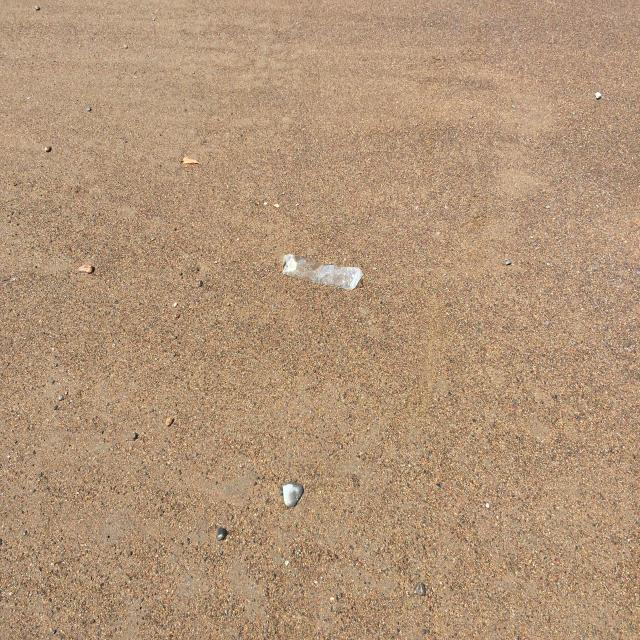Plastic film: (282, 254, 364, 290)
